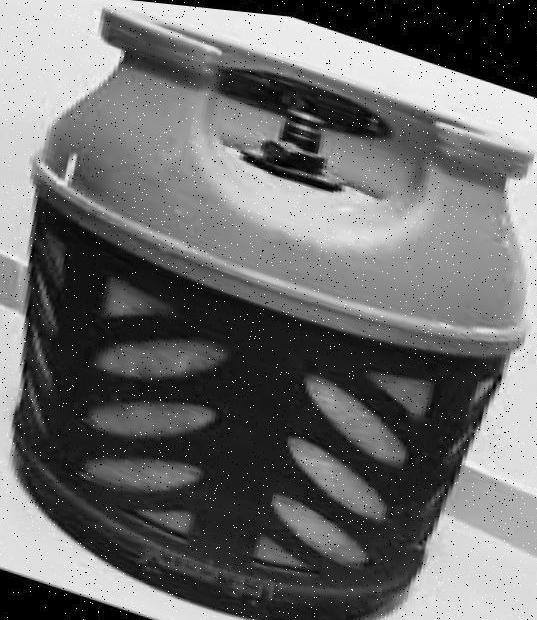cylinder: (1, 1, 537, 620)
